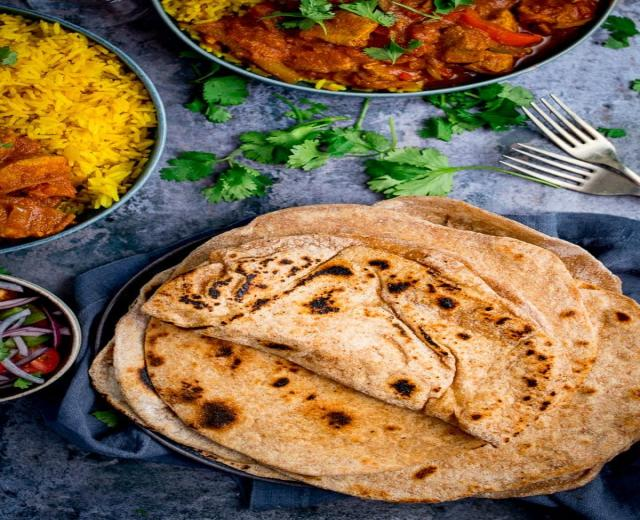chapati: (90, 197, 639, 501)
